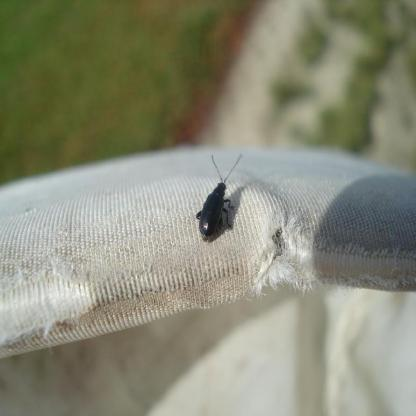beetle: (196, 163, 240, 238)
